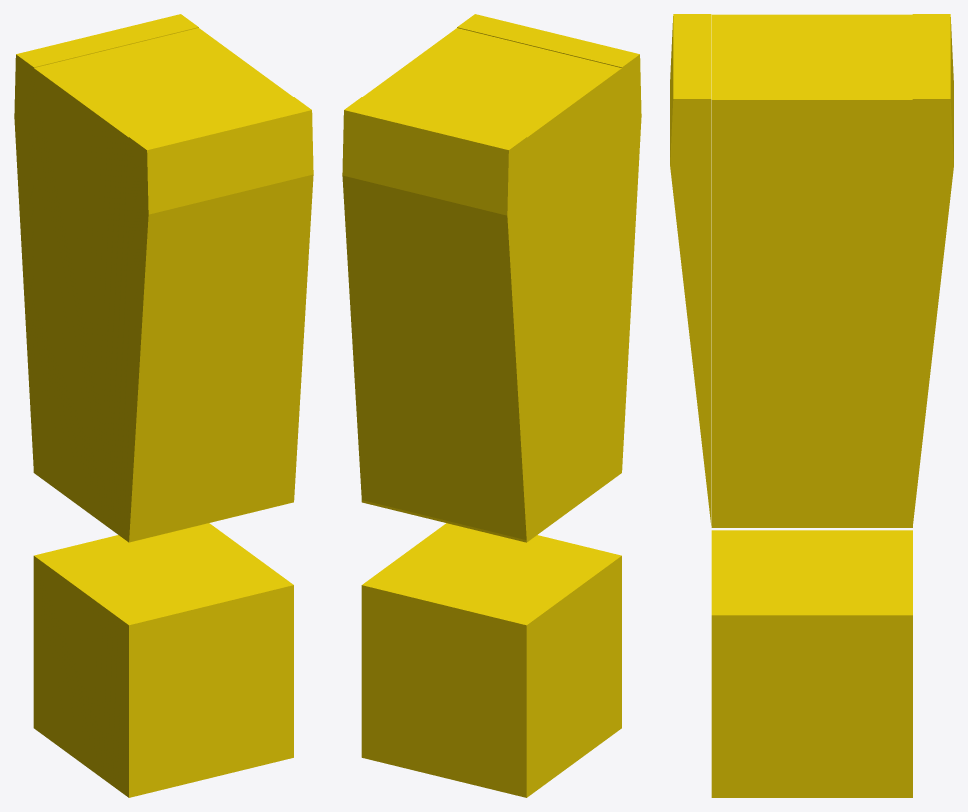
The model's file is exclamation_export.fbx.
3 views of the same model, side by side, from view 1: azimuth 30°, elevation 25°; view 2: azimuth 150°, elevation 25°; view 3: azimuth 270°, elevation 25° (orthographic). The views are drawn at different scales.
Parts seen in each view (by area): view 1: Cube.004; view 2: Cube.004; view 3: Cube.004.
Part boxes in pixels (bbox=[...]): Cube.004: bbox=[14, 14, 313, 797]; Cube.004: bbox=[342, 14, 641, 797]; Cube.004: bbox=[670, 14, 953, 797].
Bounding box in the file's own units: 69.91 × 268 × 98.5.
